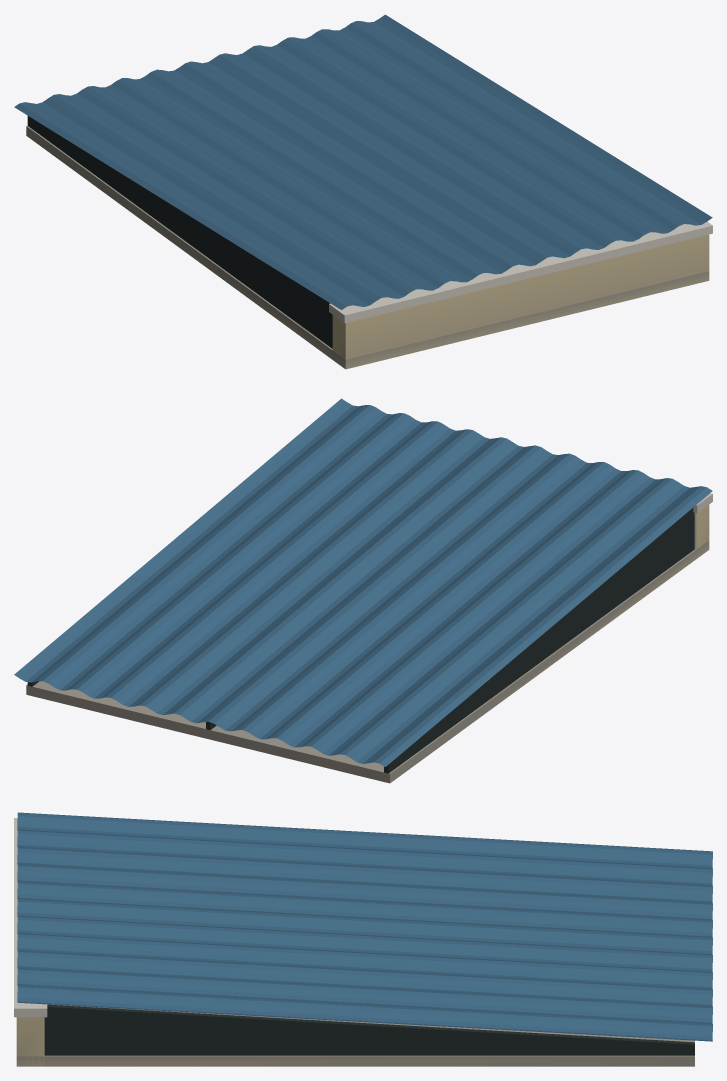
File: mai_ton_48.glb
The picture shows the model from 3 angles, top to bottom: view 1: azimuth 30°, elevation 25°; view 2: azimuth 150°, elevation 25°; view 3: azimuth 270°, elevation 25°; orthographic projection. The views are drawn at different scales.
Visible parts, largest first — view 1: mai_ton_48; view 2: mai_ton_48; view 3: mai_ton_48.
Boxes of the visible parts, bbox=[...] form: mai_ton_48: bbox=[14, 14, 712, 369]; mai_ton_48: bbox=[14, 398, 712, 783]; mai_ton_48: bbox=[14, 812, 712, 1066].
Bounding box in the file's own units: 4.9 × 0.7882 × 7.52.
